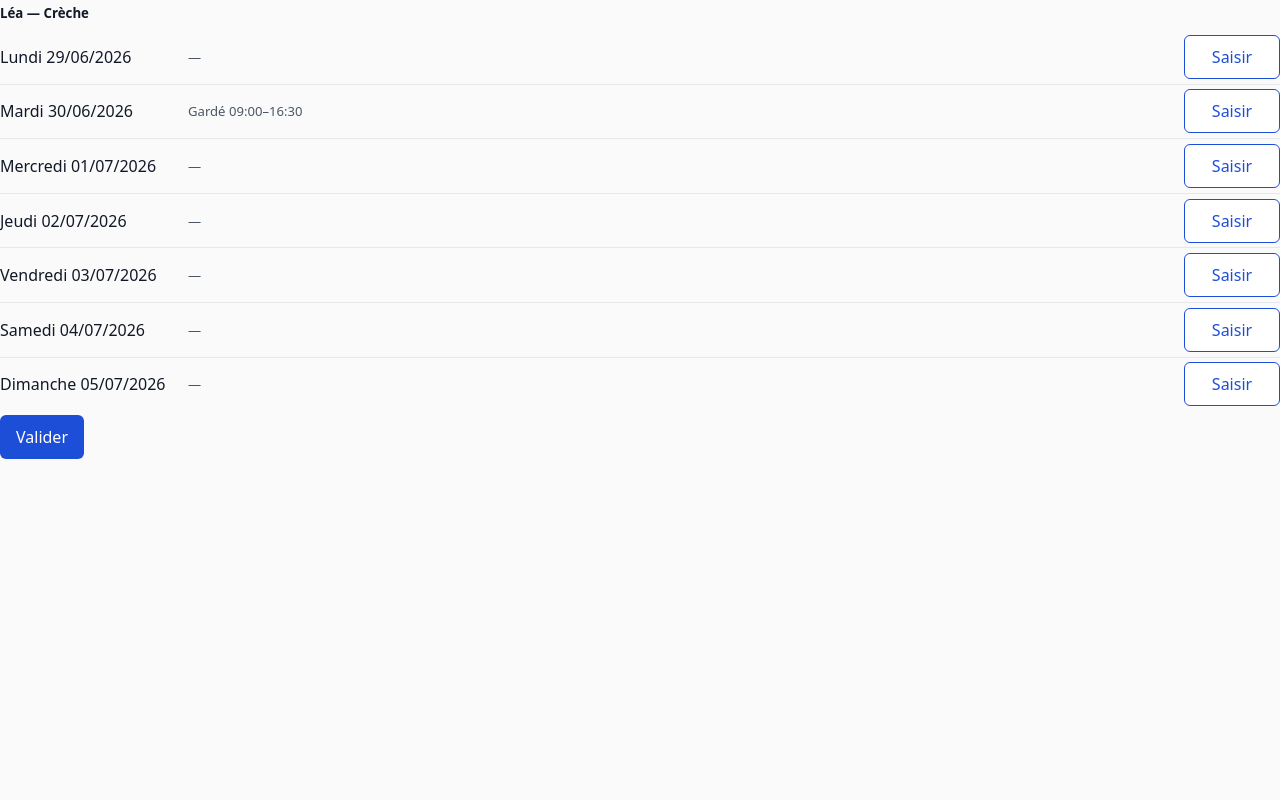
Test case: EditeurContratSemaine (crèche PSU) › refuse une plage invalide : message et confirmation désactivée
Click the button with aria-label "Saisir le Mardi 30/06/2026" at (1232, 111), box [1184,89,1279,133]
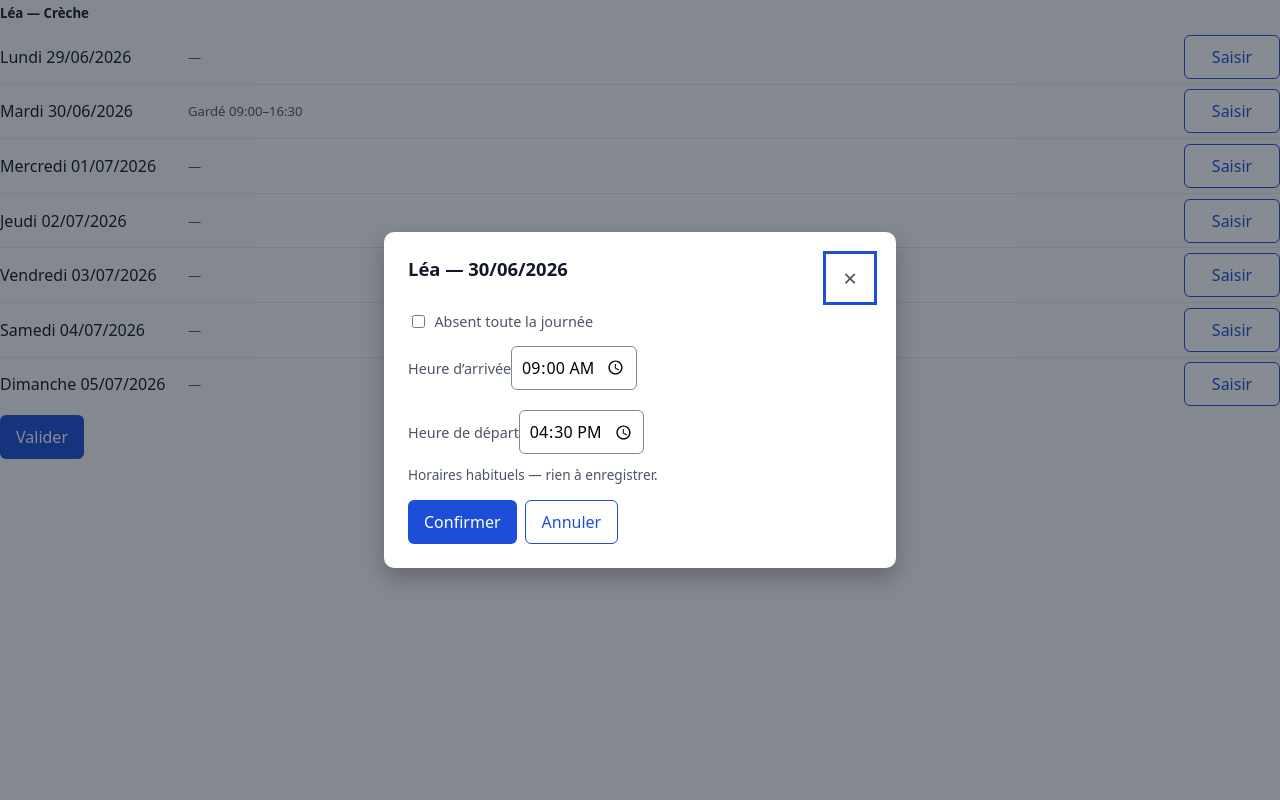
Départ avant l'arrivée du contrat (09:00).
Replace the text in the time field labelled "Heure de départ" with "08:00" at (582, 432), box [519,410,644,454]
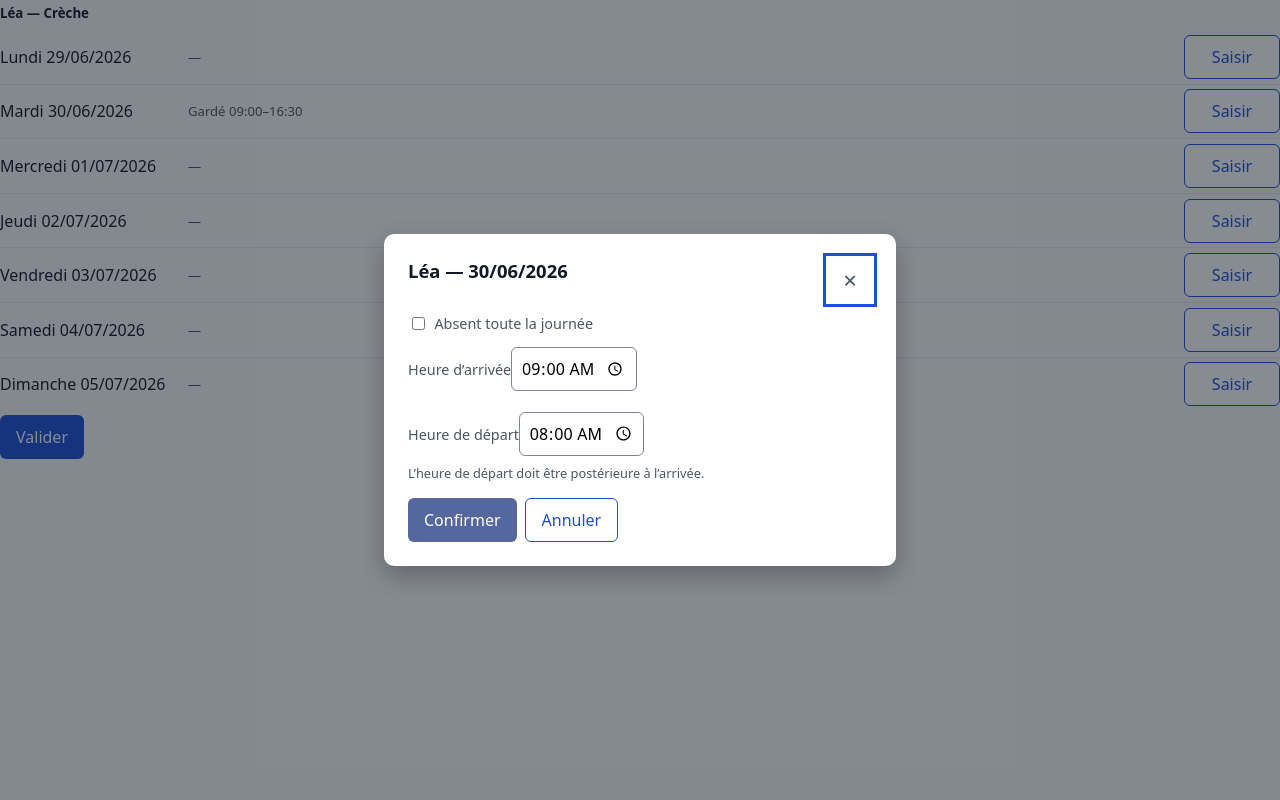
Check: the text "L’heure de départ doit être postérieure à l’arrivée." is shown, box [408,464,704,482]
Check: the button "Confirmer" is disabled, box [408,498,516,542]
